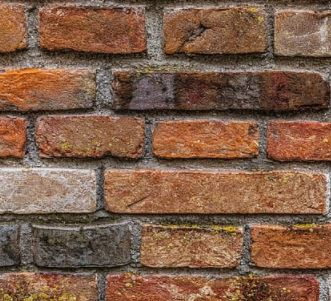brick: (102, 167, 331, 214), (111, 70, 330, 114), (104, 273, 321, 300), (159, 5, 268, 58), (35, 116, 147, 161), (38, 6, 147, 52), (139, 221, 243, 269), (1, 169, 100, 217), (24, 224, 133, 267), (152, 120, 260, 161), (1, 67, 99, 110), (249, 224, 331, 272), (265, 121, 331, 165), (273, 8, 331, 58), (1, 271, 101, 300), (1, 4, 31, 47), (1, 115, 30, 159)
